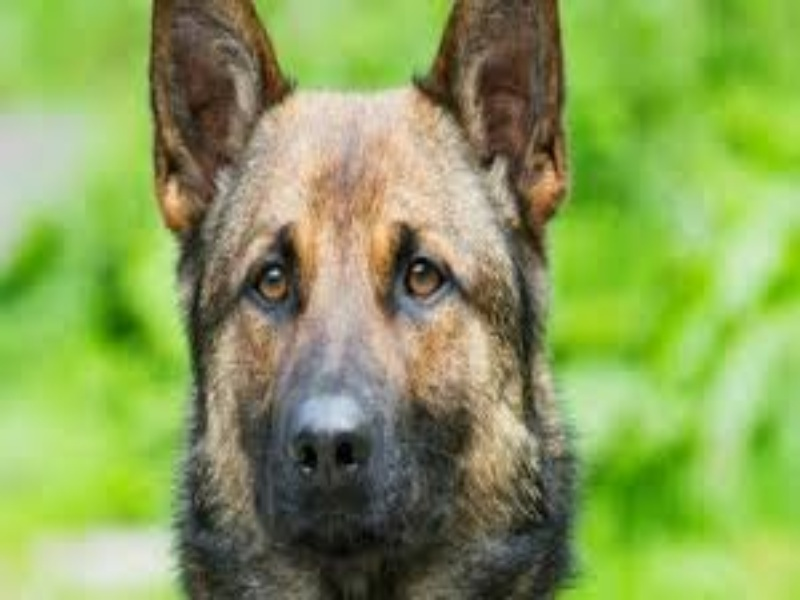dog: (120, 5, 600, 589)
